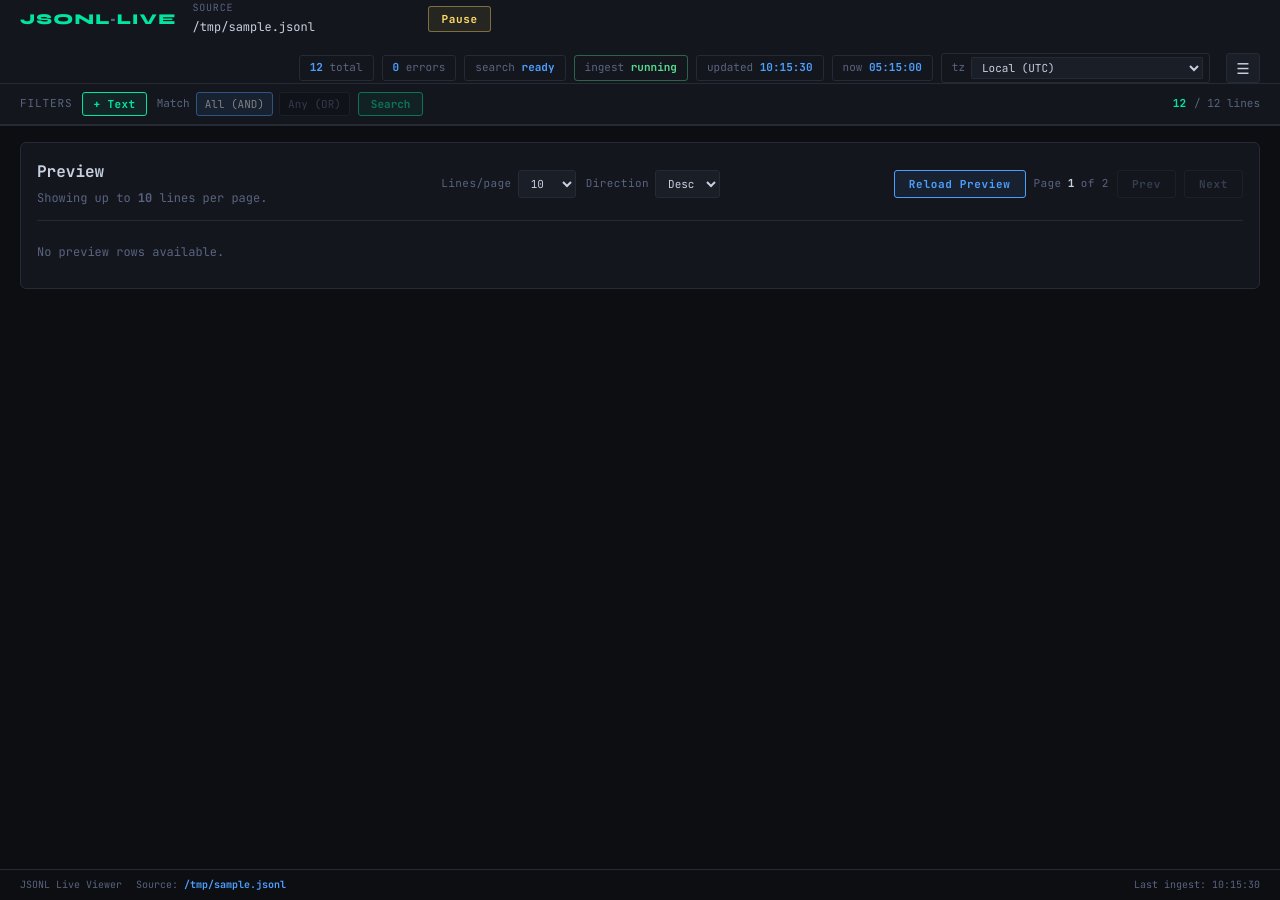
Scenario: App admin confirmations and lock › opens delete confirmation with distinct destructive copy
The width and height of the screenshot is (1280, 900).
Click the button named "Open admin menu" at (1243, 68), box [1226,53,1260,83]
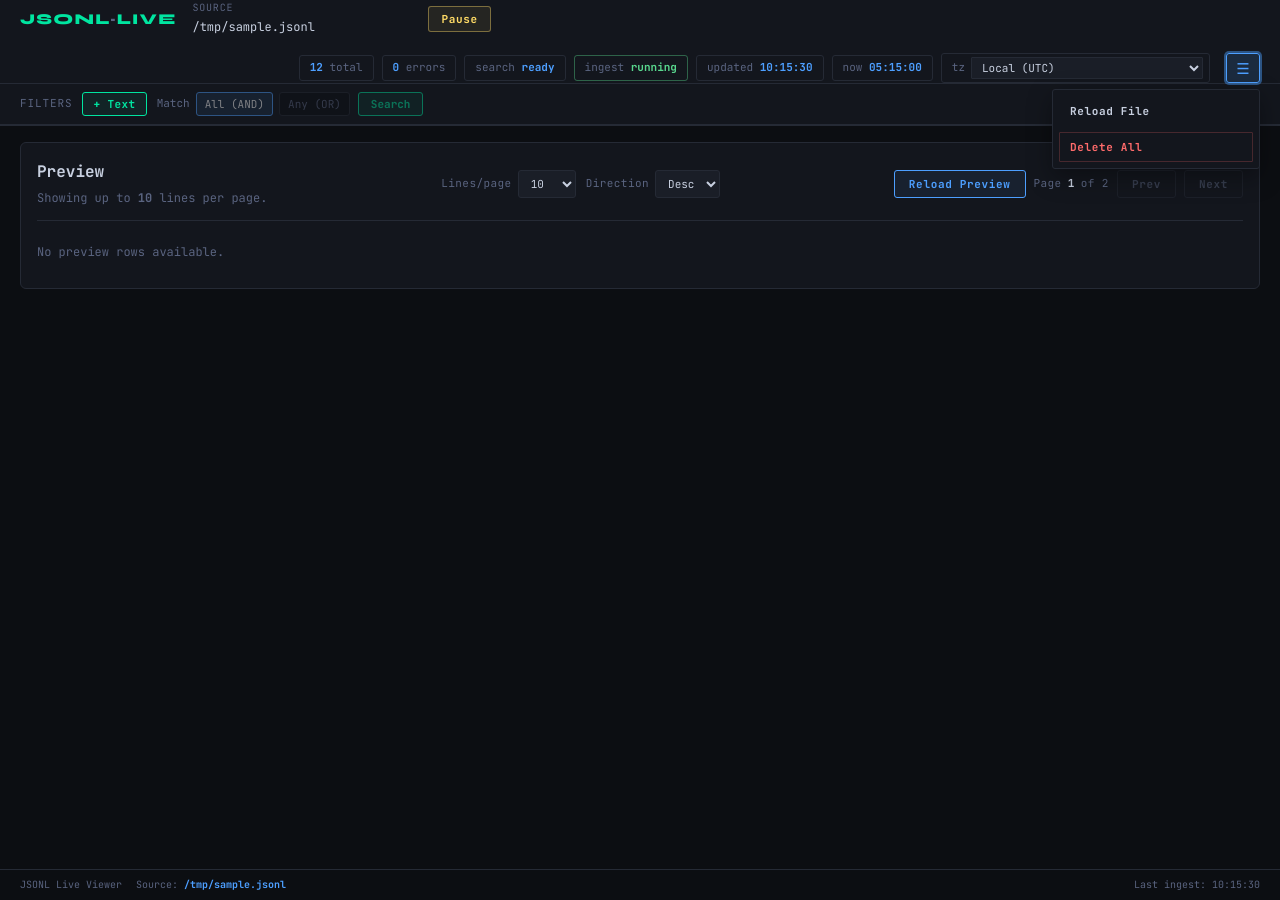
Click the menu item "Delete All" at (1156, 147), box [1059,132,1253,162]
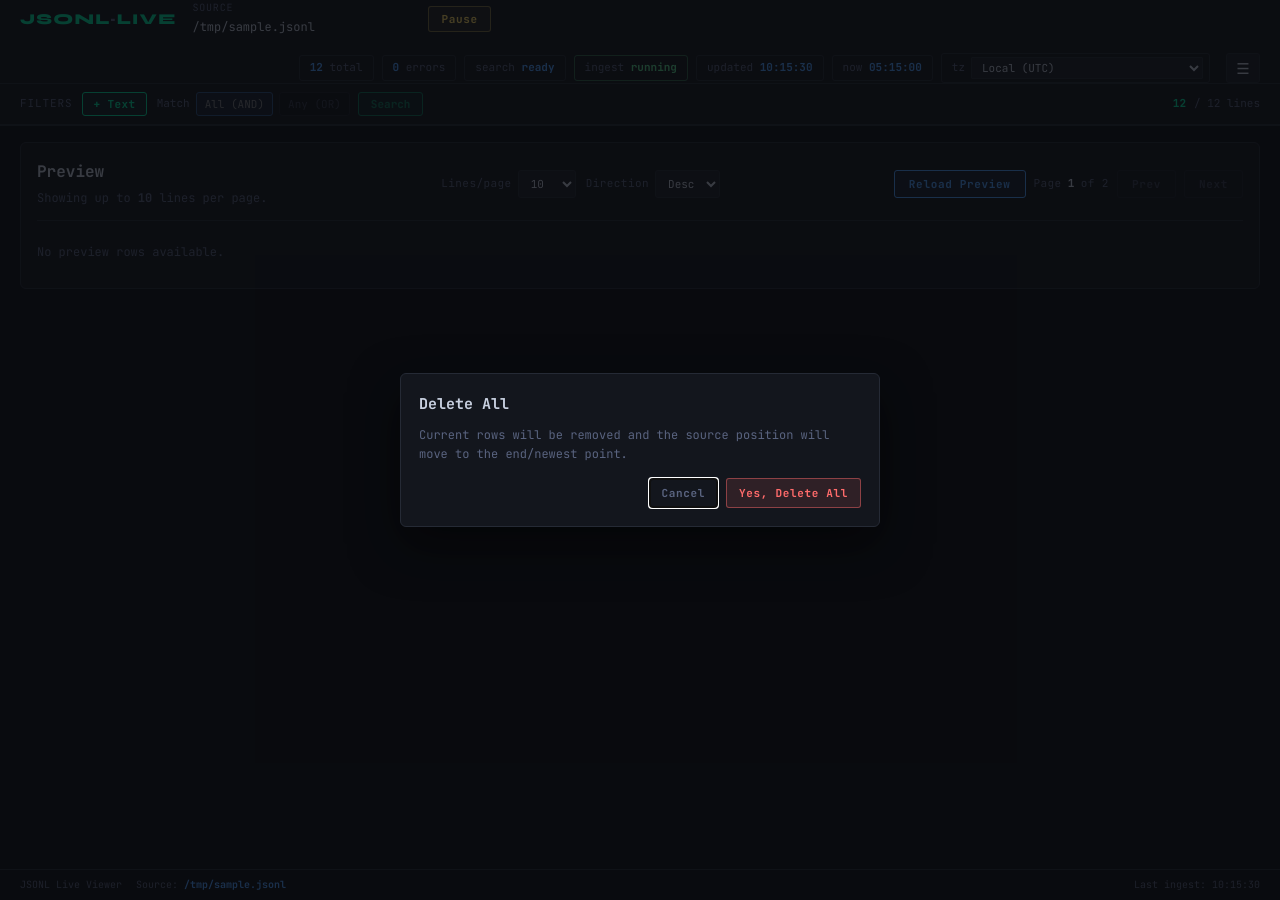
Expected: the dialog "Delete All" is shown, [400,373,880,527]
Expected: the text "source position will move to the end/newest point" is shown, [419,427,829,462]
